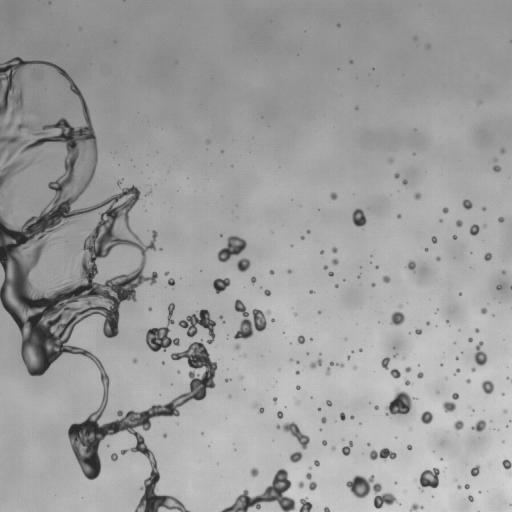droplet: (220, 468, 295, 511), (145, 303, 179, 351), (178, 309, 215, 344), (234, 299, 266, 339), (217, 236, 246, 262), (386, 388, 415, 414), (419, 468, 440, 491), (352, 208, 366, 227), (213, 278, 230, 293), (390, 311, 404, 325), (237, 258, 250, 272), (481, 380, 494, 394), (299, 497, 312, 511), (420, 411, 433, 424), (471, 420, 486, 431), (442, 401, 456, 412), (341, 441, 352, 455), (290, 451, 302, 462), (502, 459, 511, 472), (469, 224, 479, 235), (390, 368, 401, 378), (381, 357, 390, 369), (454, 420, 463, 432), (462, 199, 472, 209), (470, 465, 479, 476), (407, 261, 415, 271), (250, 467, 258, 477), (493, 164, 500, 172), (484, 252, 491, 260), (382, 275, 390, 282), (297, 335, 304, 343), (330, 192, 337, 199), (414, 192, 421, 199), (168, 278, 174, 286), (111, 453, 117, 461), (431, 236, 437, 243), (332, 258, 338, 265), (264, 289, 270, 296), (480, 308, 487, 314), (452, 392, 458, 399), (277, 411, 283, 418), (298, 481, 304, 488), (340, 412, 345, 420), (442, 207, 448, 213), (456, 220, 462, 226), (405, 366, 411, 372), (417, 372, 423, 378), (251, 276, 256, 283), (468, 495, 473, 502), (332, 247, 337, 253), (415, 329, 421, 334), (326, 400, 331, 406), (321, 417, 326, 423), (314, 460, 319, 466), (324, 506, 330, 511), (337, 363, 344, 367), (394, 173, 399, 178), (498, 217, 503, 222), (235, 344, 240, 349), (405, 380, 410, 385), (464, 484, 469, 489), (273, 397, 277, 403), (500, 149, 505, 153), (117, 180, 121, 185), (402, 180, 407, 184), (452, 235, 457, 239), (436, 256, 440, 261), (269, 270, 274, 274), (328, 272, 333, 276), (266, 310, 271, 314), (133, 358, 137, 363), (374, 405, 378, 410), (322, 440, 326, 445), (407, 445, 412, 449), (397, 214, 401, 218), (323, 265, 327, 269), (287, 269, 291, 273), (496, 285, 500, 289), (468, 338, 472, 342), (466, 379, 470, 383), (296, 385, 300, 389), (295, 400, 299, 404), (503, 409, 507, 413), (350, 415, 354, 419), (457, 485, 461, 489), (306, 230, 310, 233), (165, 271, 168, 275), (371, 283, 375, 286), (271, 318, 274, 322), (475, 328, 478, 332), (471, 368, 475, 371), (295, 371, 299, 374), (225, 378, 229, 381), (332, 446, 335, 450), (389, 159, 392, 162), (482, 207, 485, 210), (301, 236, 304, 239), (502, 270, 505, 273), (310, 290, 313, 293), (318, 310, 321, 313), (426, 321, 429, 324), (347, 356, 350, 359), (353, 366, 356, 369), (317, 408, 320, 411), (163, 434, 166, 437), (337, 24, 340, 26), (350, 60, 352, 63), (355, 107, 358, 109), (207, 140, 209, 143), (439, 219, 441, 222), (425, 248, 427, 251), (320, 251, 323, 253), (375, 266, 378, 268), (335, 284, 337, 287), (459, 292, 461, 295), (399, 304, 401, 307), (148, 308, 151, 310), (309, 338, 312, 340), (359, 349, 362, 351), (455, 357, 458, 359), (177, 371, 180, 373), (228, 395, 231, 397), (494, 159, 496, 161), (351, 351, 353, 353), (296, 361, 298, 363), (240, 377, 242, 379), (502, 393, 504, 395), (471, 408, 473, 410), (368, 443, 370, 445)
ligament: (0, 57, 217, 511), (346, 475, 400, 508), (0, 158, 36, 187), (276, 422, 309, 449), (369, 447, 396, 460), (474, 341, 487, 365), (306, 473, 316, 490), (310, 358, 322, 368), (325, 362, 334, 375), (409, 503, 423, 511), (253, 404, 264, 413), (145, 190, 151, 196), (454, 368, 460, 374), (219, 316, 224, 322)
